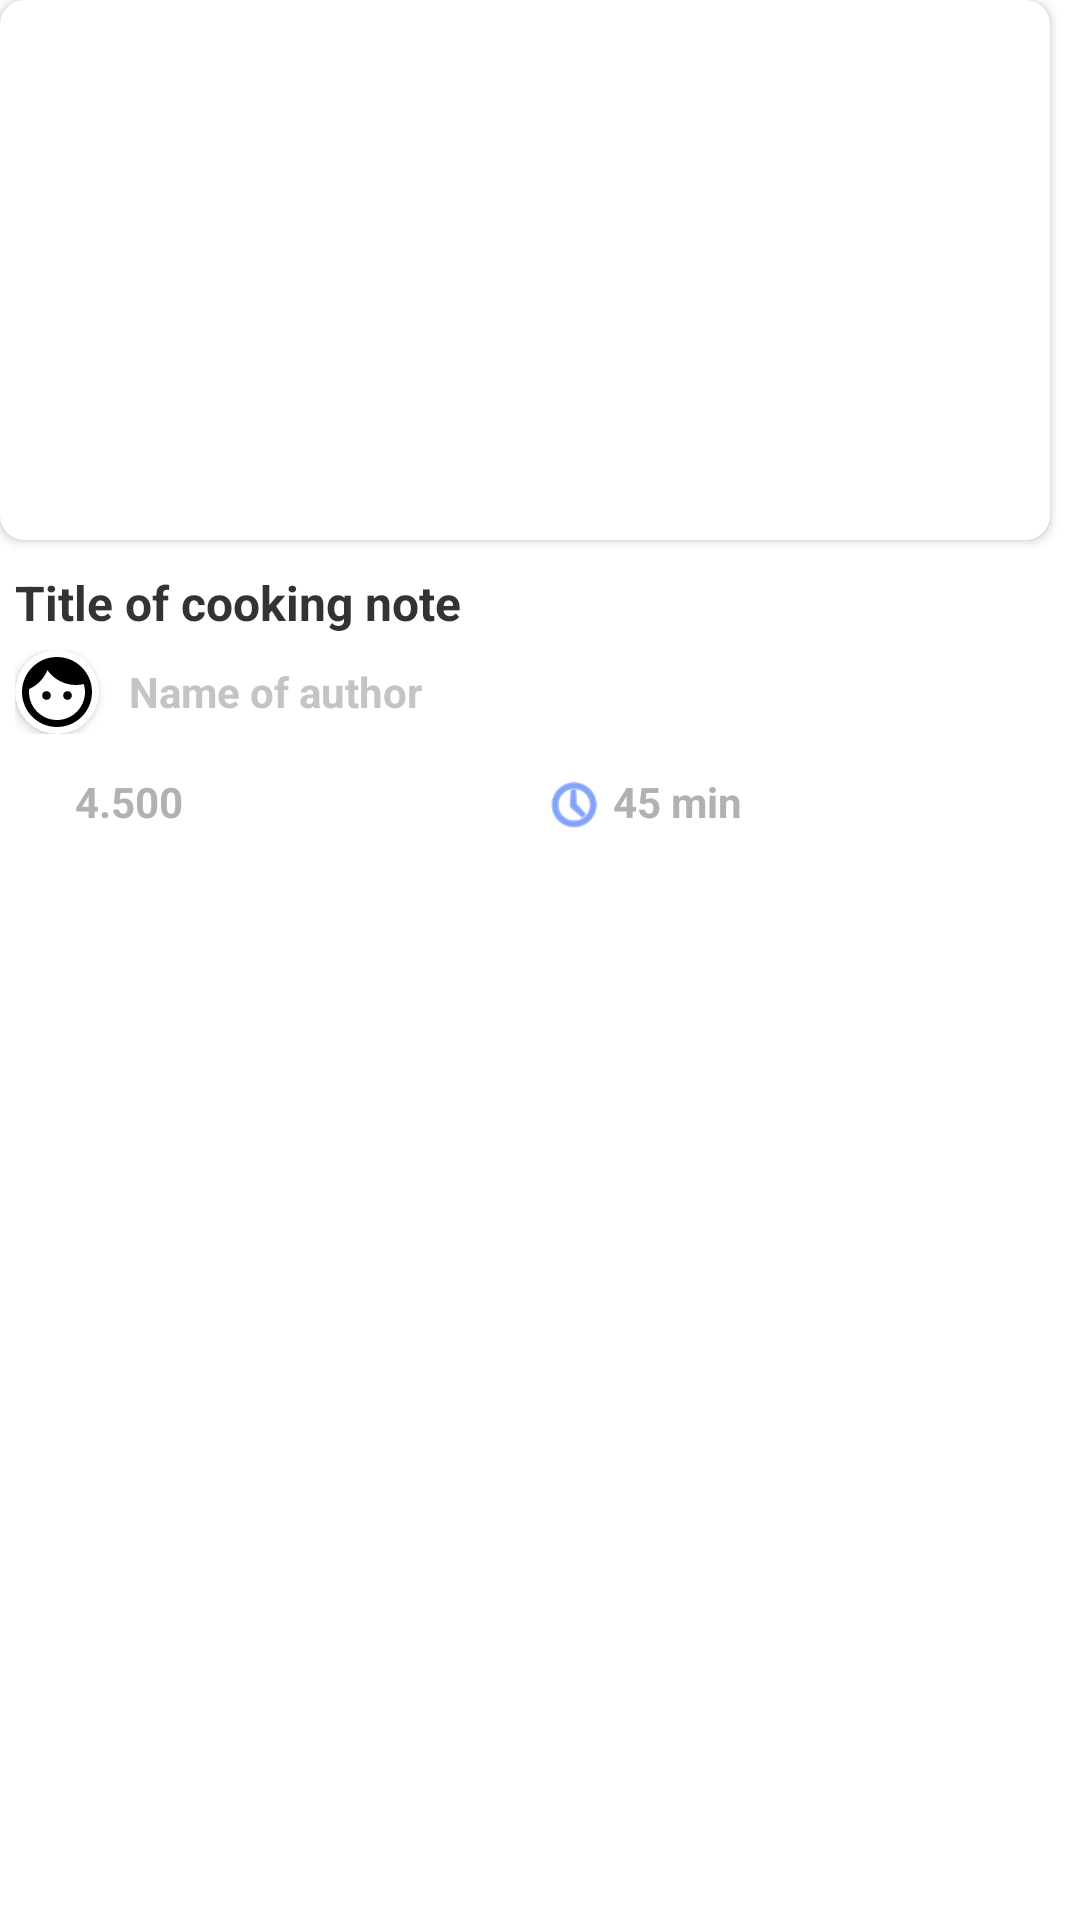

Screen size 1080px x 1920px. Icon name, then its box in pixels as (x1, y1, x2, y2):
recent history: (551, 782, 597, 828)
